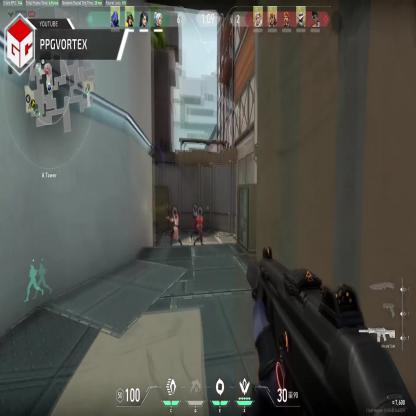enemy: (168, 208, 181, 248), (192, 207, 204, 246), (190, 204, 200, 240)
enemy_head: (197, 206, 203, 216), (172, 207, 177, 216), (192, 204, 197, 212)
